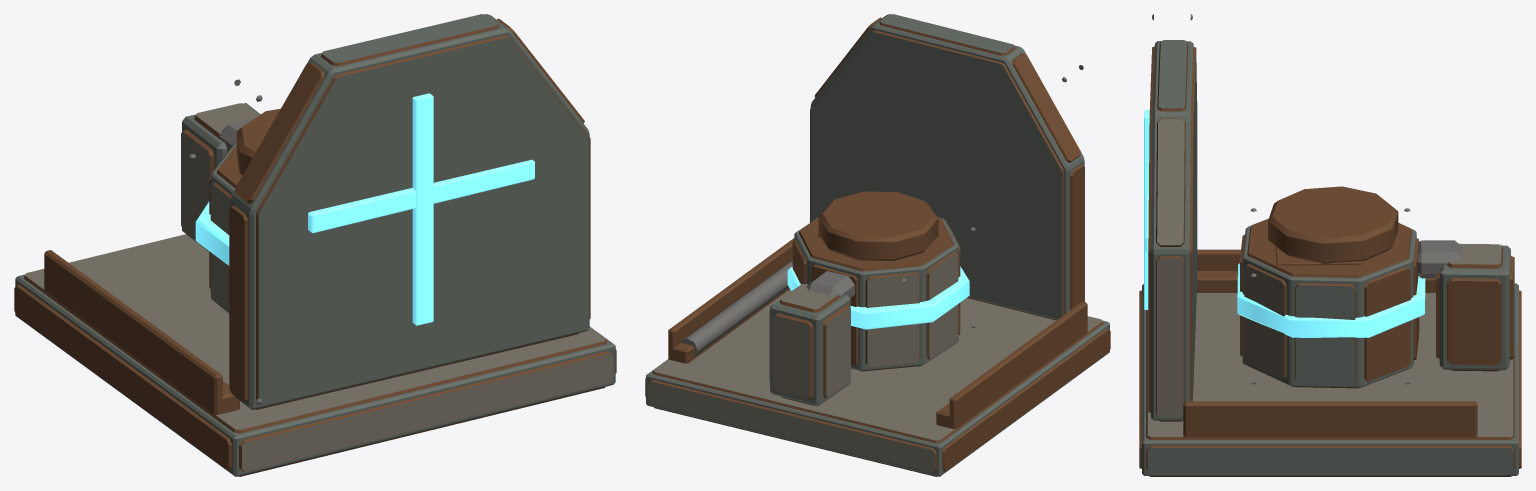
Rendered from R4X_DefensiveTurretDeployer.fbx.
The picture shows the model from 3 angles, left to right: view 1: azimuth 30°, elevation 25°; view 2: azimuth 150°, elevation 25°; view 3: azimuth 270°, elevation 25°; orthographic projection. The views are drawn at different scales.
Parts seen in each view (by area): view 1: R4X_DefensiveTurretDeployer_Pod, R4X_DefensiveTurretDeployer_Body; view 2: R4X_DefensiveTurretDeployer_Pod, R4X_DefensiveTurretDeployer_Body; view 3: R4X_DefensiveTurretDeployer_Body, R4X_DefensiveTurretDeployer_Pod.
Part boxes in pixels (<box>): R4X_DefensiveTurretDeployer_Pod: <box>189,14,590,409</box>; R4X_DefensiveTurretDeployer_Body: <box>14,103,616,476</box>; R4X_DefensiveTurretDeployer_Pod: <box>787,14,1084,371</box>; R4X_DefensiveTurretDeployer_Body: <box>645,238,1110,476</box>; R4X_DefensiveTurretDeployer_Body: <box>1139,240,1521,476</box>; R4X_DefensiveTurretDeployer_Pod: <box>1144,14,1425,421</box>.
Size of the model in its own units: 0.52 by 0.49 by 0.52.
